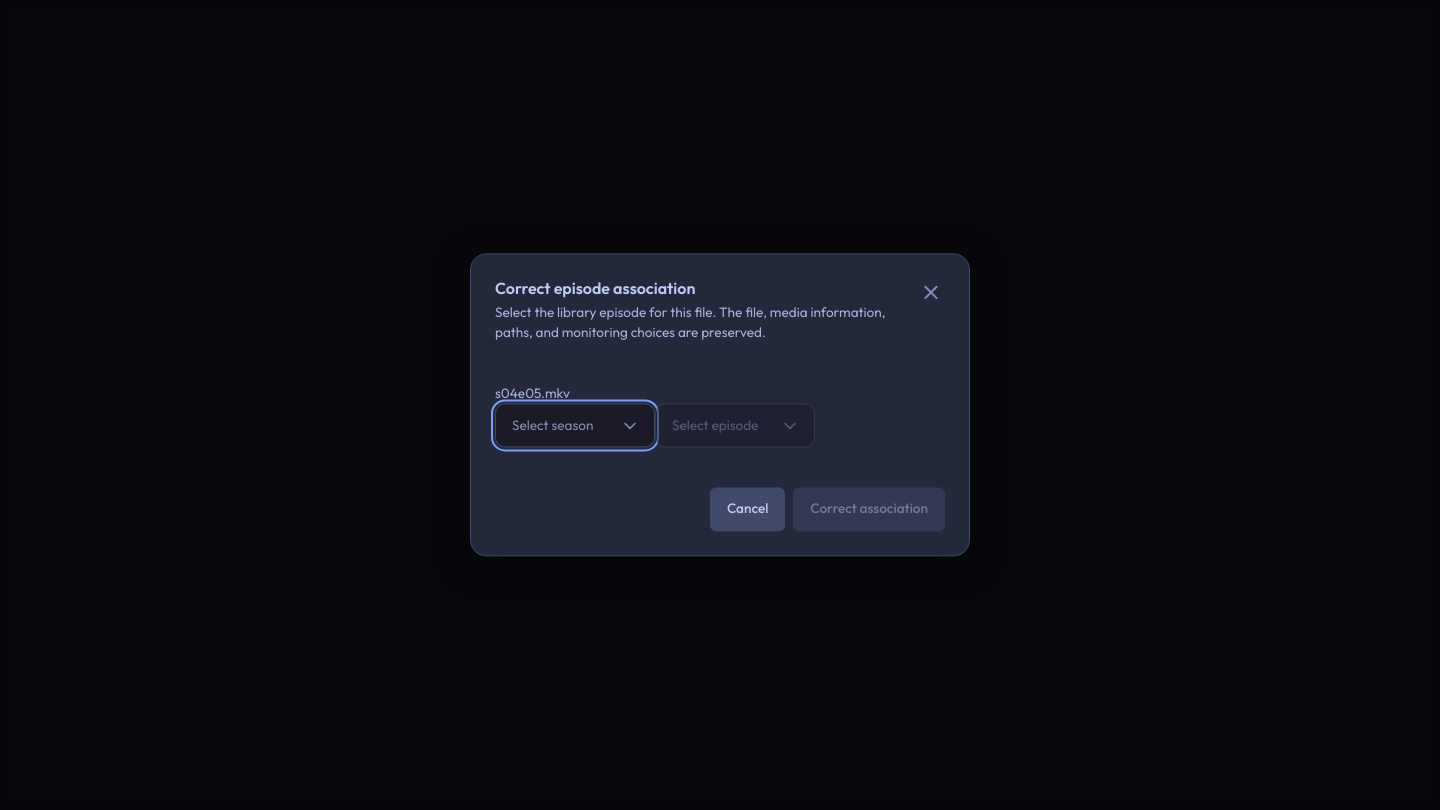
FileReassignDialog › keeps a failed correction visible
Click the dropdown named "Destination season" at {"x": 575, "y": 426}, box [495,404,655,448]
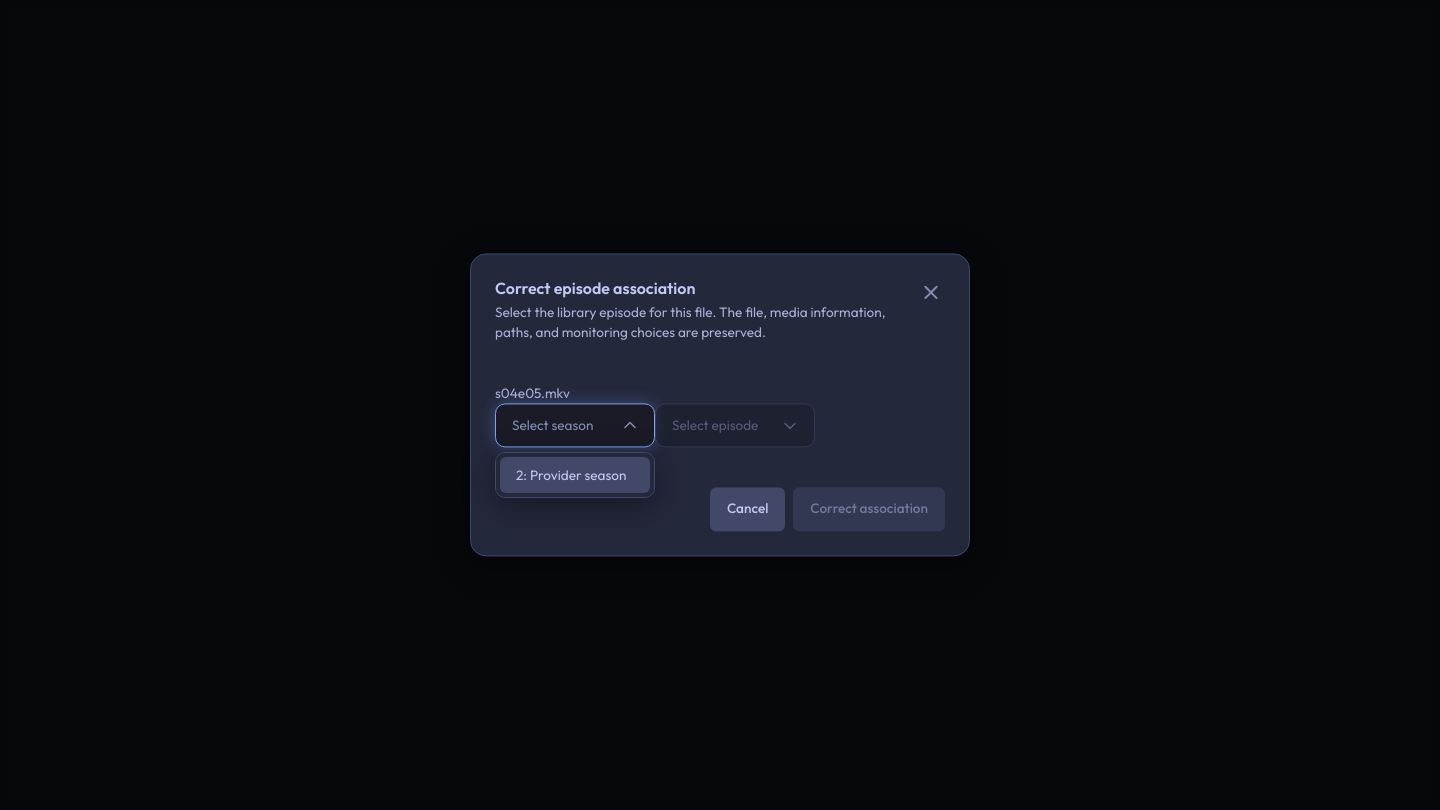
Click the option "2: Provider season" at {"x": 575, "y": 475}, box [500,457,650,493]
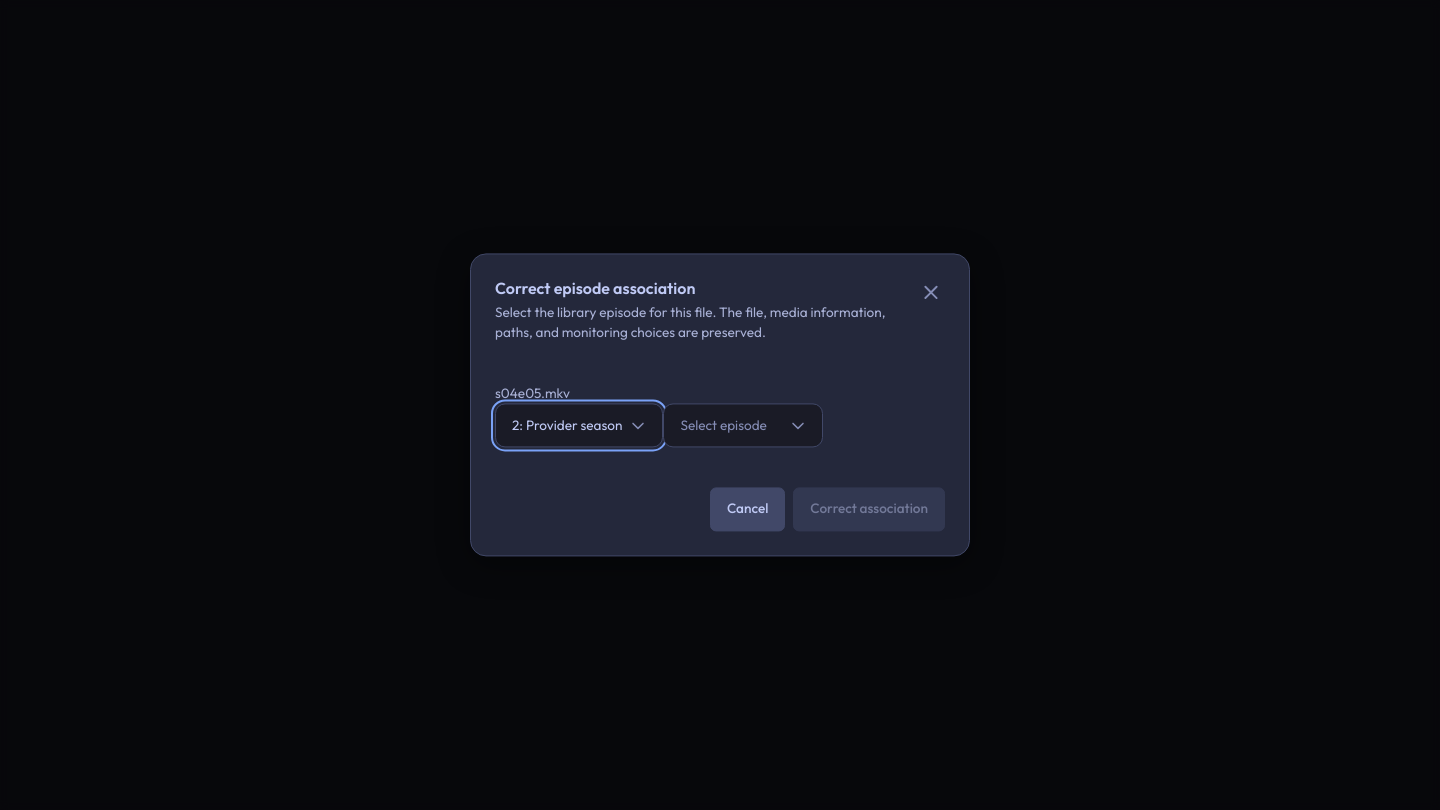
Click the dropdown named "Destination episode" at {"x": 744, "y": 426}, box [664,404,824,448]
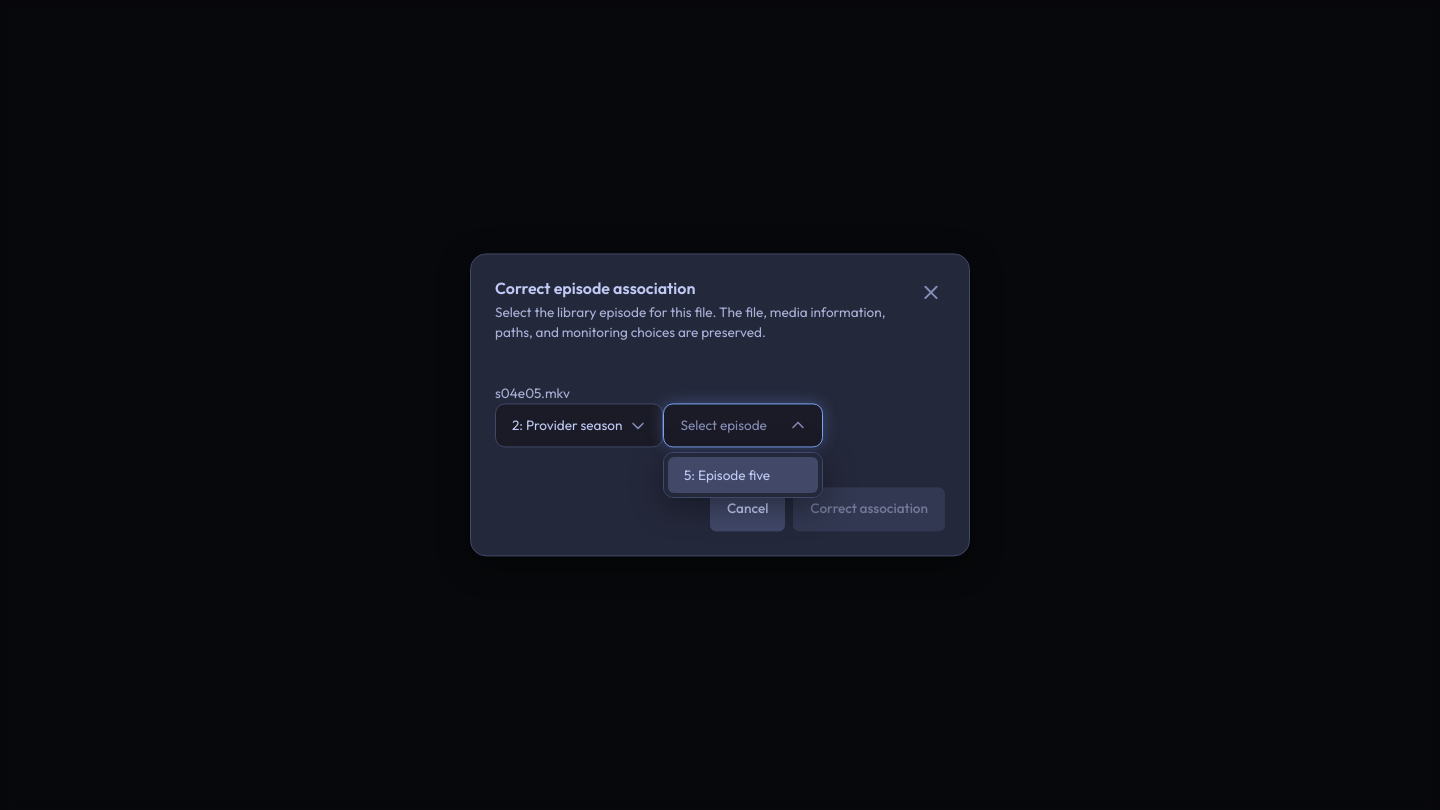
Click the option "5: Episode five" at {"x": 743, "y": 475}, box [668,457,818,493]
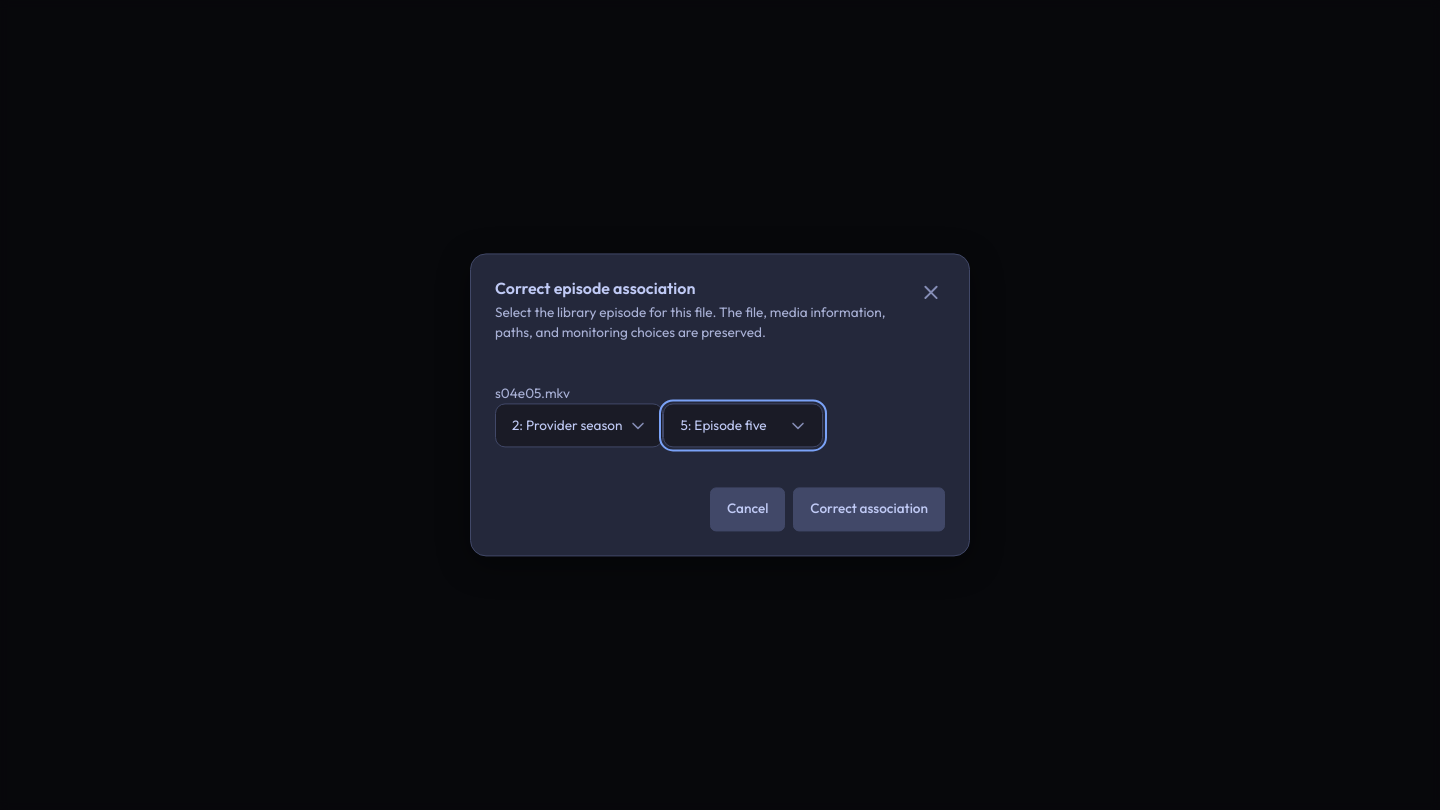
Click the button "Correct association" at {"x": 869, "y": 510}, box [793,488,945,532]
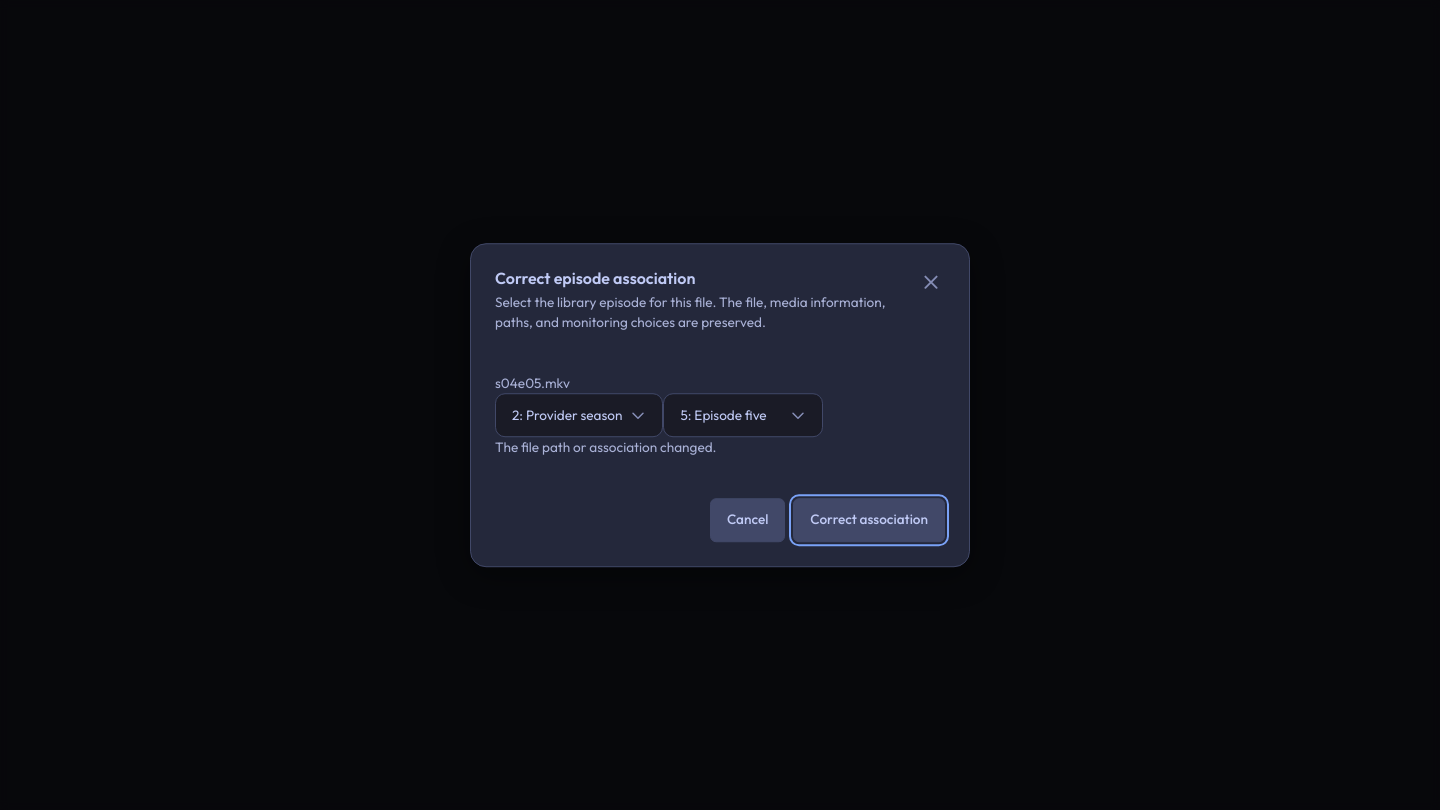
Check: the message reads "The file path or association changed.", box [495,438,717,456]
